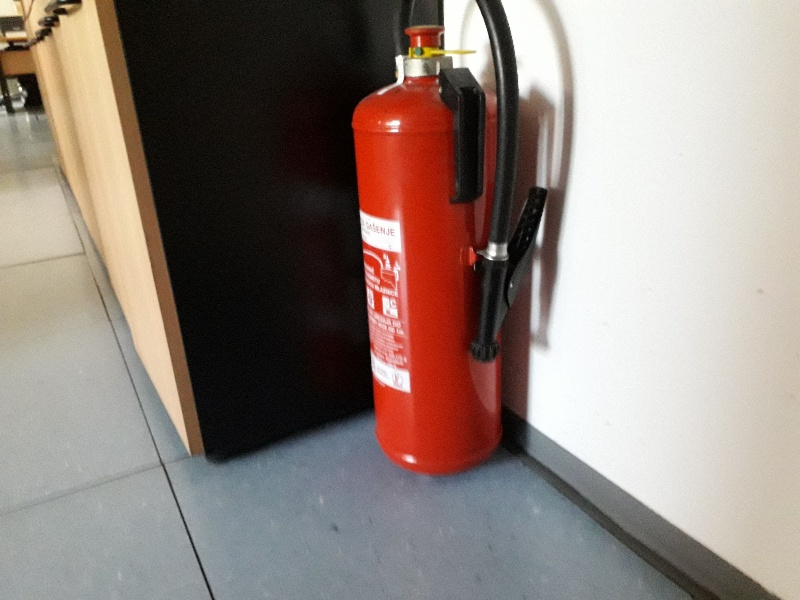vataparat: (350, 1, 547, 476)
